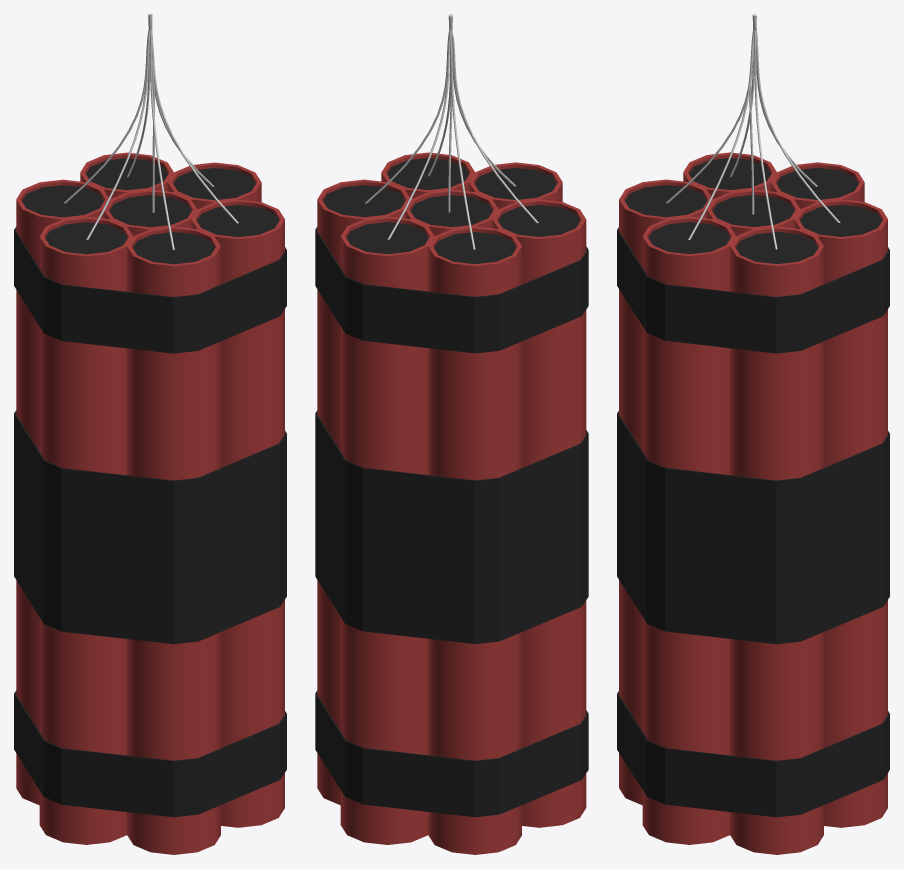
Rendered from Dynamite_Line.fbx.
3 renders of one model, left to right at view 1: azimuth 30°, elevation 25°; view 2: azimuth 150°, elevation 25°; view 3: azimuth 270°, elevation 25°, orthographic.
Visible parts, largest first — view 1: Dynamite_With_Line; view 2: Dynamite_With_Line; view 3: Dynamite_With_Line.
Part boxes in pixels (x1=…): Dynamite_With_Line: x1=14, y1=14, x2=286, y2=854; Dynamite_With_Line: x1=315, y1=14, x2=588, y2=854; Dynamite_With_Line: x1=617, y1=14, x2=889, y2=854.
Size of the model in its own units: 28.47 by 90.07 by 28.42.
